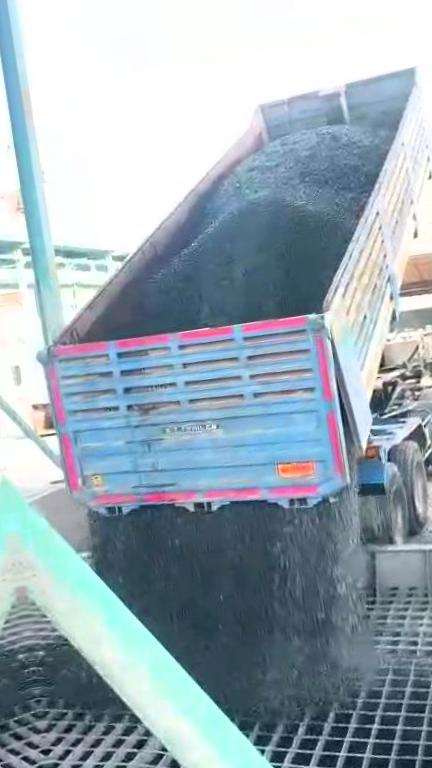gravel: (88, 126, 389, 339), (92, 492, 370, 718), (37, 644, 123, 711)
